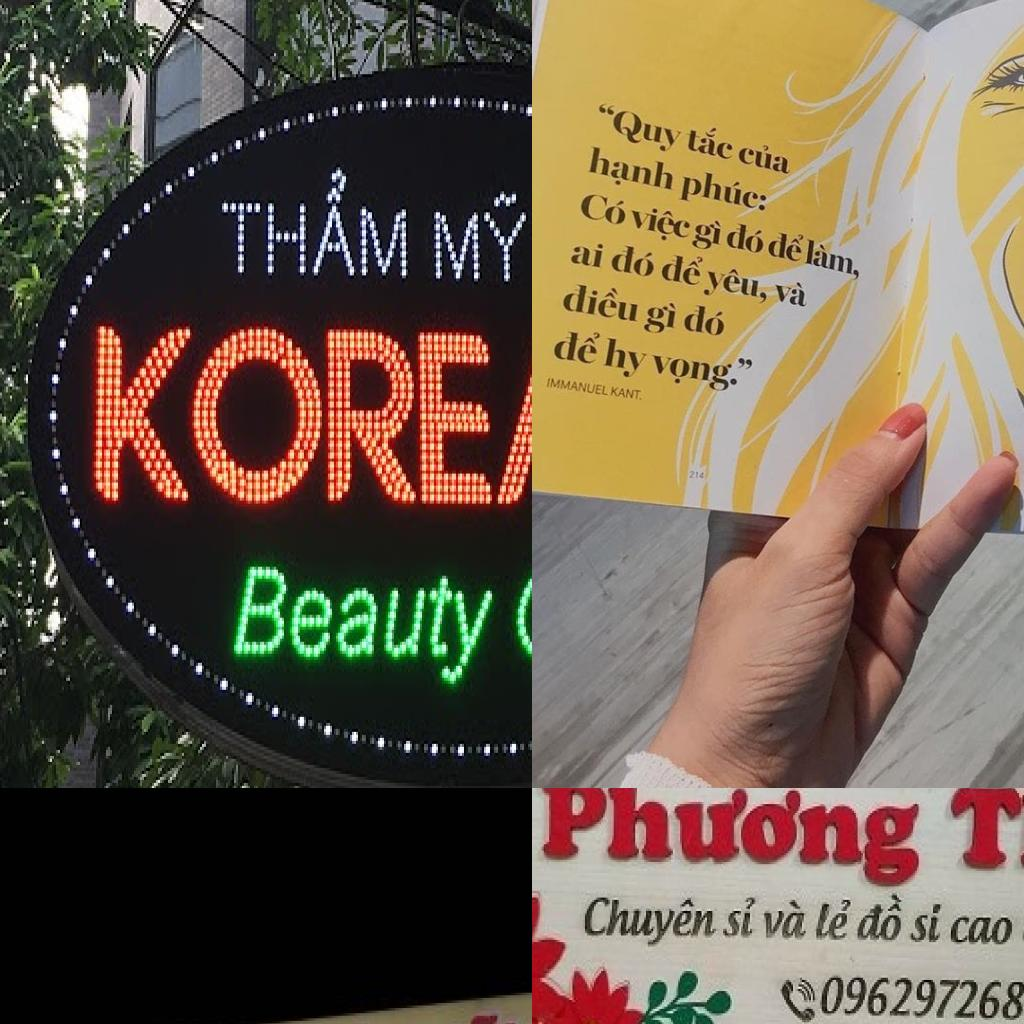text: (92, 323, 532, 518), (532, 788, 929, 893), (230, 567, 504, 696), (220, 170, 410, 282), (580, 886, 726, 956), (434, 186, 532, 288), (943, 788, 1024, 906), (588, 97, 689, 158), (583, 141, 681, 200), (672, 162, 772, 218), (652, 352, 760, 398), (558, 277, 644, 326), (850, 891, 912, 951), (700, 260, 771, 308), (802, 234, 863, 285), (949, 909, 1017, 953), (628, 200, 694, 245), (596, 334, 654, 383), (732, 136, 796, 180), (812, 893, 858, 949), (676, 126, 741, 164), (720, 891, 762, 946), (549, 328, 606, 368), (679, 299, 731, 342), (574, 188, 628, 229), (763, 898, 809, 946), (908, 900, 951, 951), (608, 240, 660, 280), (657, 251, 707, 288), (723, 218, 769, 258), (640, 300, 683, 339), (764, 227, 808, 265), (543, 375, 609, 398), (688, 218, 726, 254), (566, 240, 607, 272), (773, 280, 810, 312)
